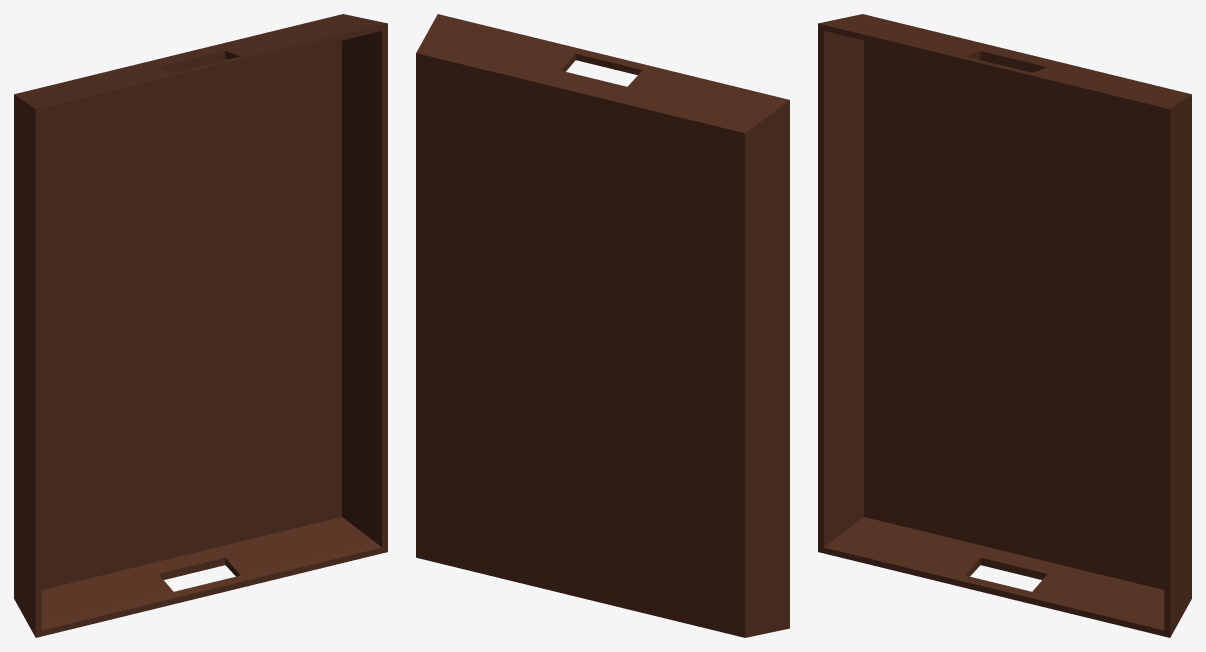
File: wicker_tray_visual.dae
3 renders of one model, left to right at view 1: azimuth 30°, elevation 25°; view 2: azimuth 150°, elevation 25°; view 3: azimuth 330°, elevation 25°, orthographic.
Parts seen in each view (by area): view 1: tray; view 2: tray; view 3: tray.
Boxes of the visible parts, x1=… form: tray: x1=14, y1=14, x2=387, y2=637; tray: x1=416, y1=14, x2=789, y2=637; tray: x1=818, y1=14, x2=1191, y2=637.
Bounding box in the file's own units: 0.46 × 0.66 × 0.075.
